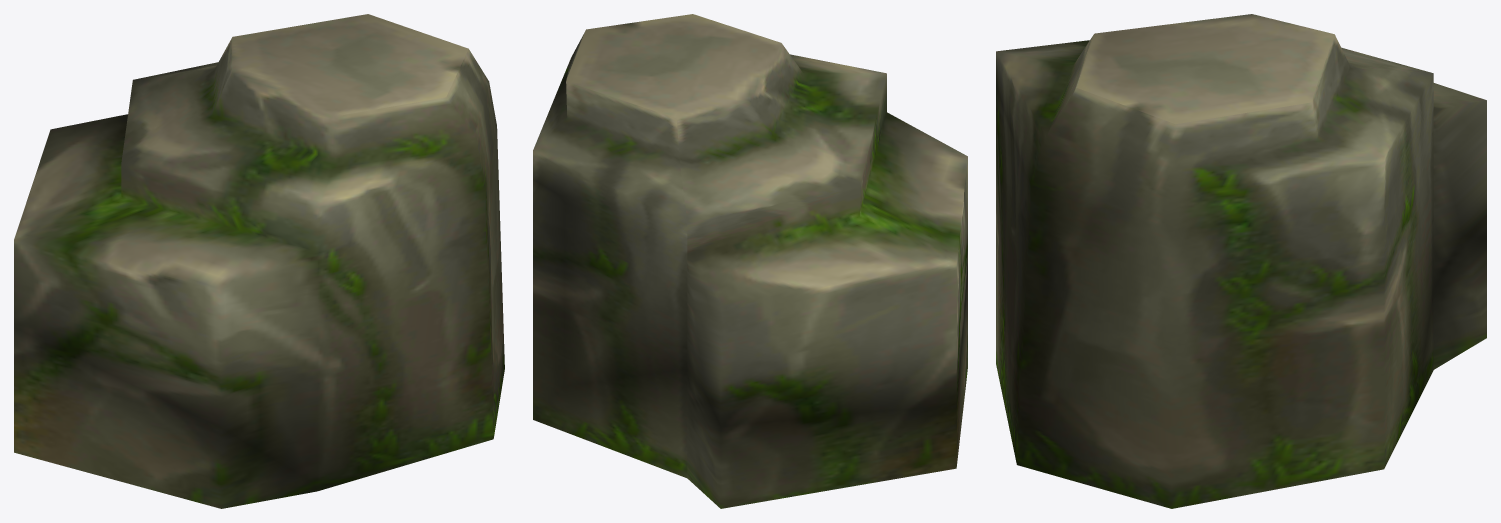
The model's file is RockFormation_4_5 (24).fbx.
The picture shows the model from 3 angles, left to right: view 1: azimuth 30°, elevation 25°; view 2: azimuth 150°, elevation 25°; view 3: azimuth 270°, elevation 25°; orthographic projection. The views are drawn at different scales.
Parts seen in each view (by area): view 1: RockFormation_4_5 (24); view 2: RockFormation_4_5 (24); view 3: RockFormation_4_5 (24).
Part boxes in pixels (bbox=[...]): RockFormation_4_5 (24): bbox=[14, 14, 504, 508]; RockFormation_4_5 (24): bbox=[533, 14, 967, 508]; RockFormation_4_5 (24): bbox=[996, 14, 1486, 508].
Bounding box in the file's own units: 845 × 583 × 708.
